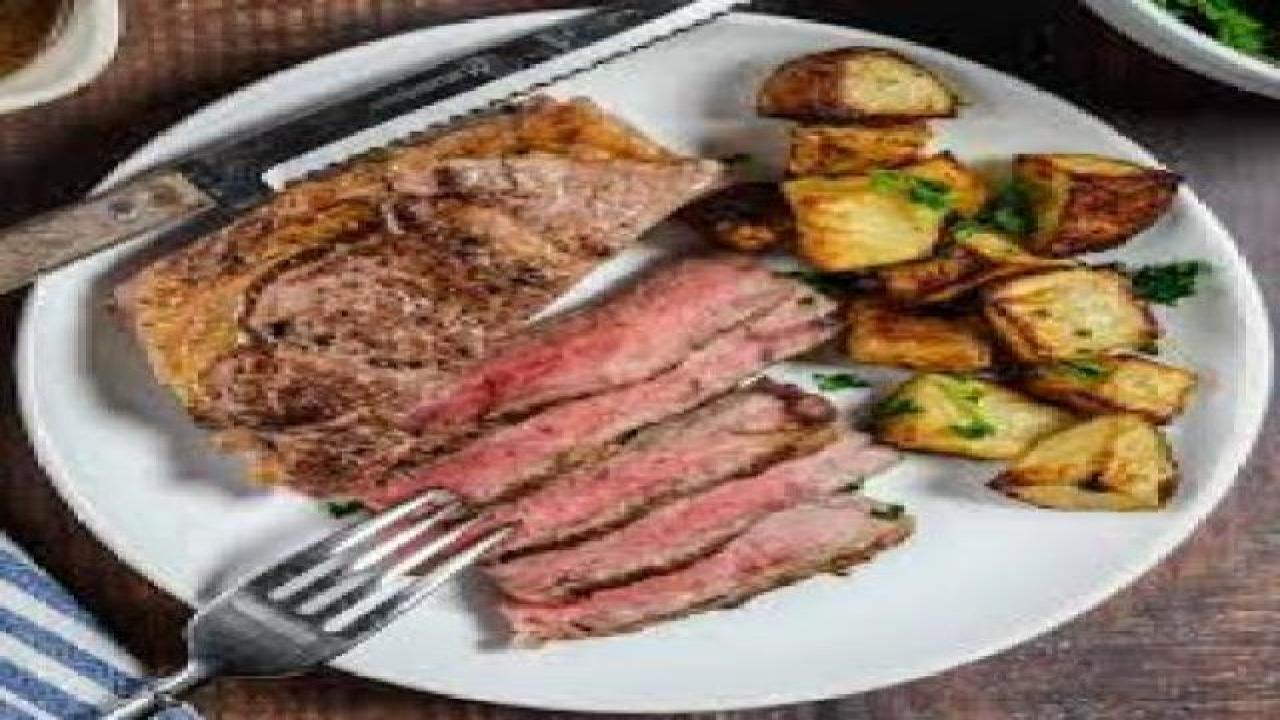Carne: (144, 107, 697, 448), (363, 304, 877, 622)
